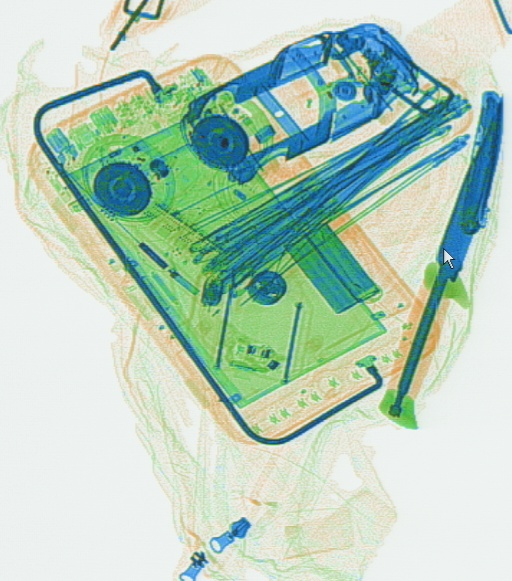knife: (377, 92, 504, 426), (457, 89, 503, 233)
